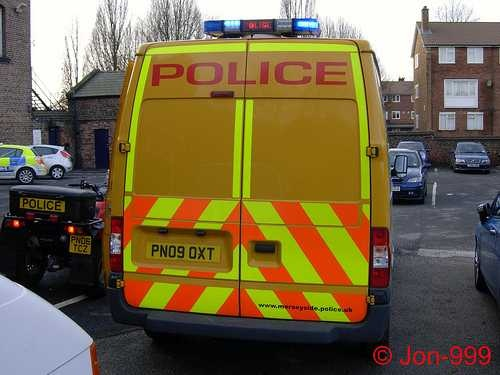Ambulance: (112, 13, 405, 361)
